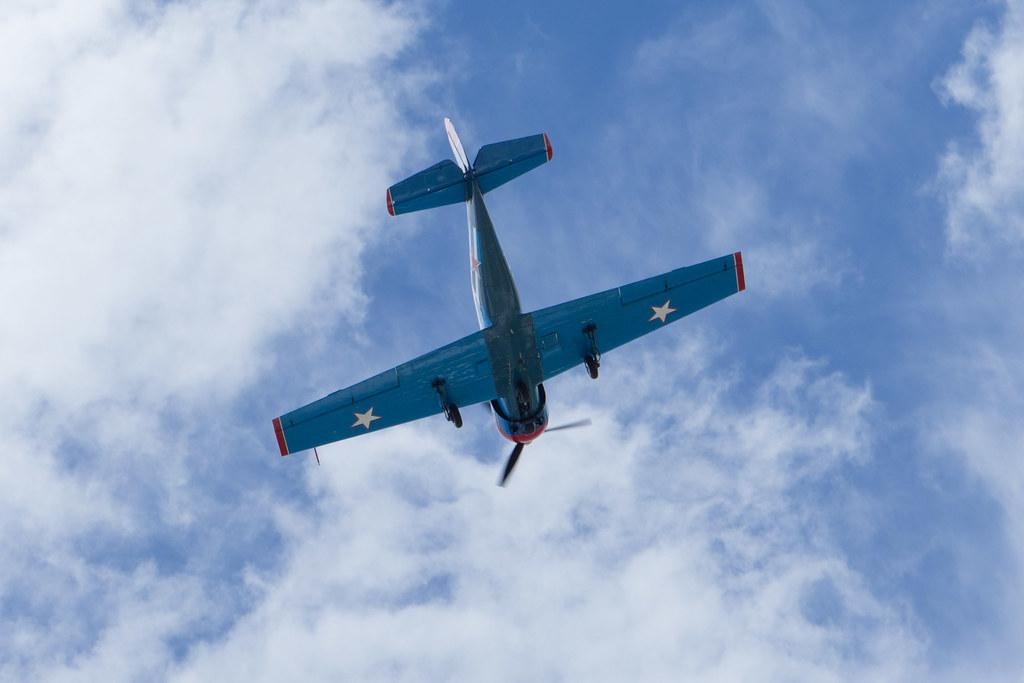plane: (272, 116, 747, 488)
